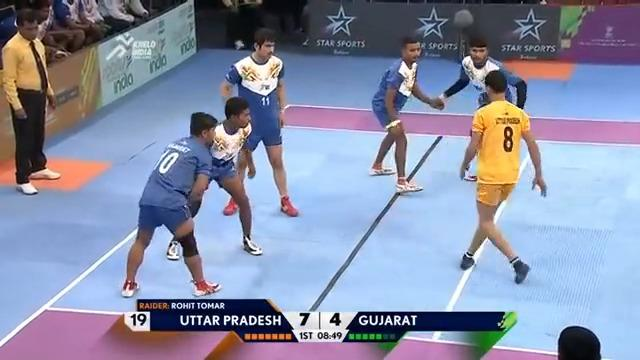Player: (119, 109, 224, 298), (218, 26, 301, 219), (367, 33, 444, 195), (212, 100, 258, 229), (455, 51, 528, 111)
Raider: (455, 68, 548, 285)
referee: (1, 8, 62, 195)
